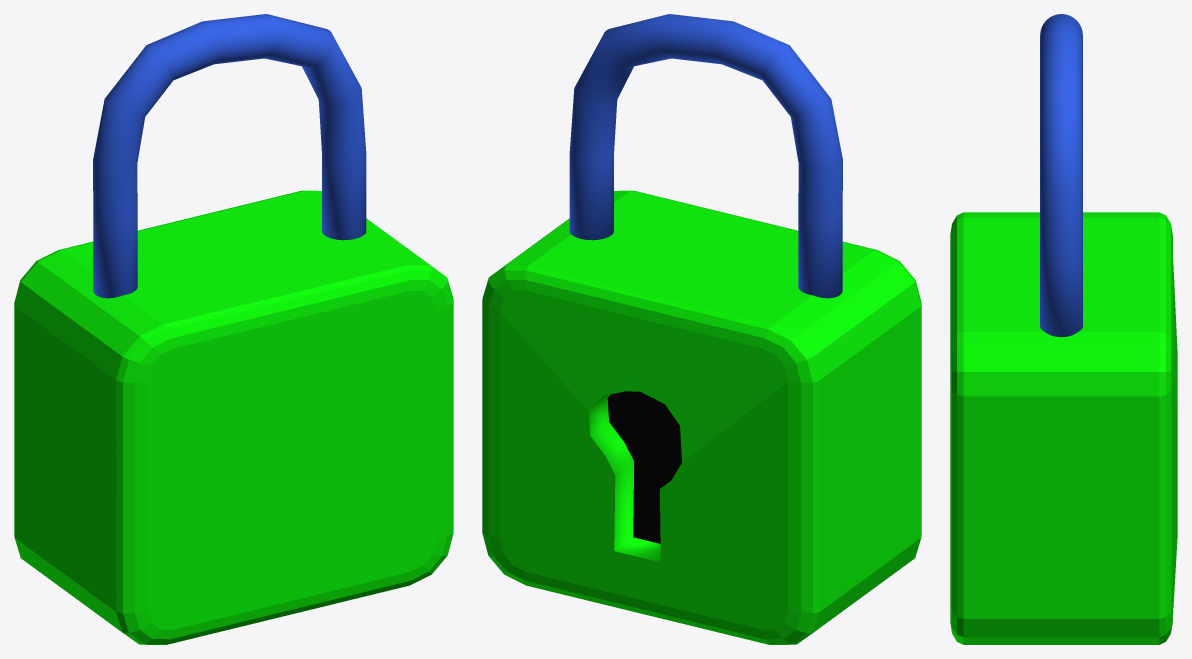
Rendered from lock.fbx.
3 renders of one model, left to right at view 1: azimuth 30°, elevation 25°; view 2: azimuth 150°, elevation 25°; view 3: azimuth 270°, elevation 25°, orthographic. The views are drawn at different scales.
Visible parts, largest first — view 1: Cube.062, Cube.063; view 2: Cube.062, Cube.063; view 3: Cube.062, Cube.063.
Part boxes in pixels (x1,y1,x2,y2): Cube.062: (14,190,453,644); Cube.063: (93,14,366,298); Cube.062: (482,190,921,644); Cube.063: (569,14,842,298); Cube.062: (950,212,1177,644); Cube.063: (1040,14,1082,337).
Bounding box in the file's own units: 168 × 267 × 102.
